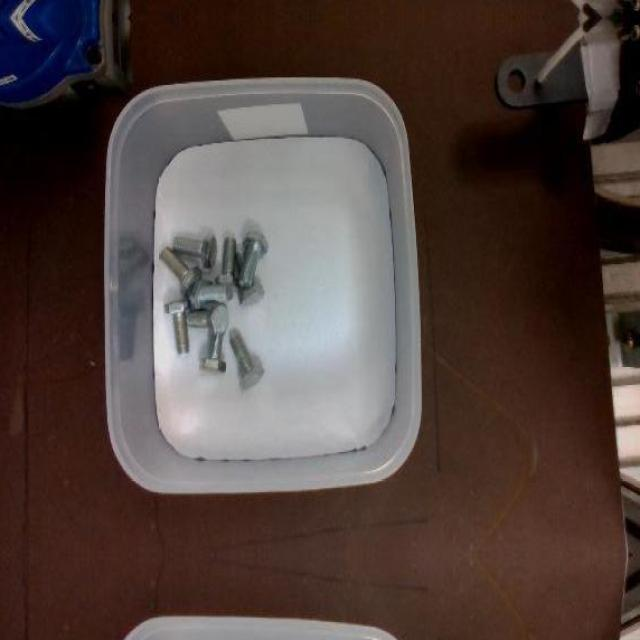screw: (229, 331, 264, 388), (240, 232, 268, 288), (164, 298, 192, 353), (174, 234, 218, 268), (187, 300, 230, 333), (189, 279, 233, 310)
